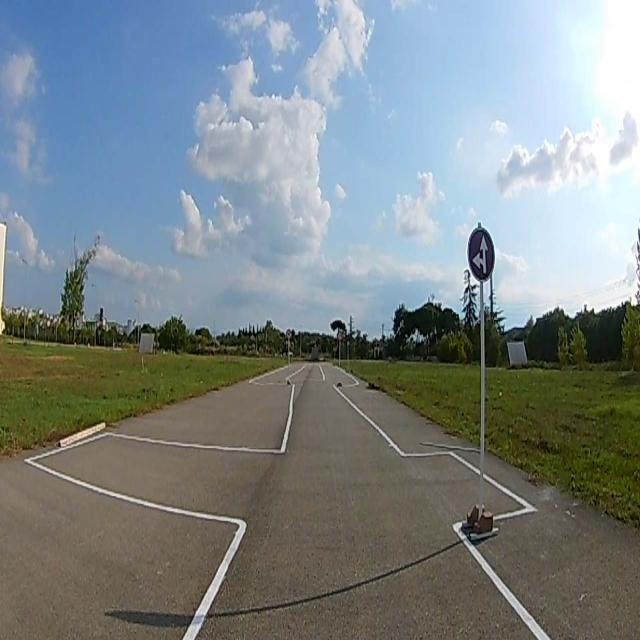ilerisol: (467, 226, 495, 278)
